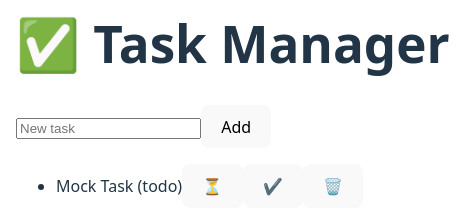
Test: updates task status
This screenshot has width=466, height=224.
Click the button "✔️": x=273, y=186 [242,164,303,208]
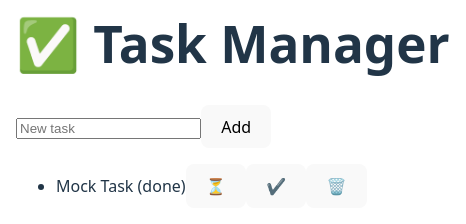
Result: the list item "Mock Task (done) ⏳ ✔️ 🗑️" is shown at [56,164,367,208]
